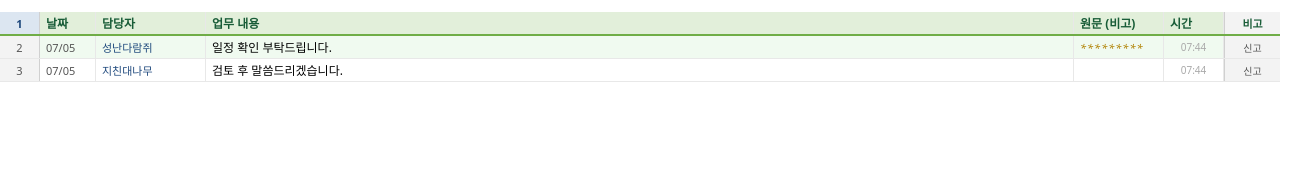
Test: ChatPanel › 한 행을 신고해도 다른 행의 신고 버튼은 그대로 남아있다
Click the button titled "부적절한 메시지를 운영자에게 신고합니다" in the row of "일정 확인 부탁드립니다." at {"x": 1252, "y": 47}, box [1225,36,1280,58]
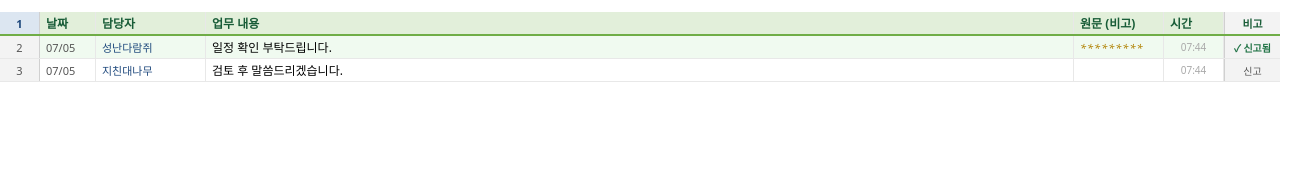
Expected: the number of buttons titled "부적절한 메시지를 운영자에게 신고합니다" is 1, [1225,59,1280,81]
Now the button titled "신고가 접수됐습니다" is shown, box [1234,40,1271,54]
